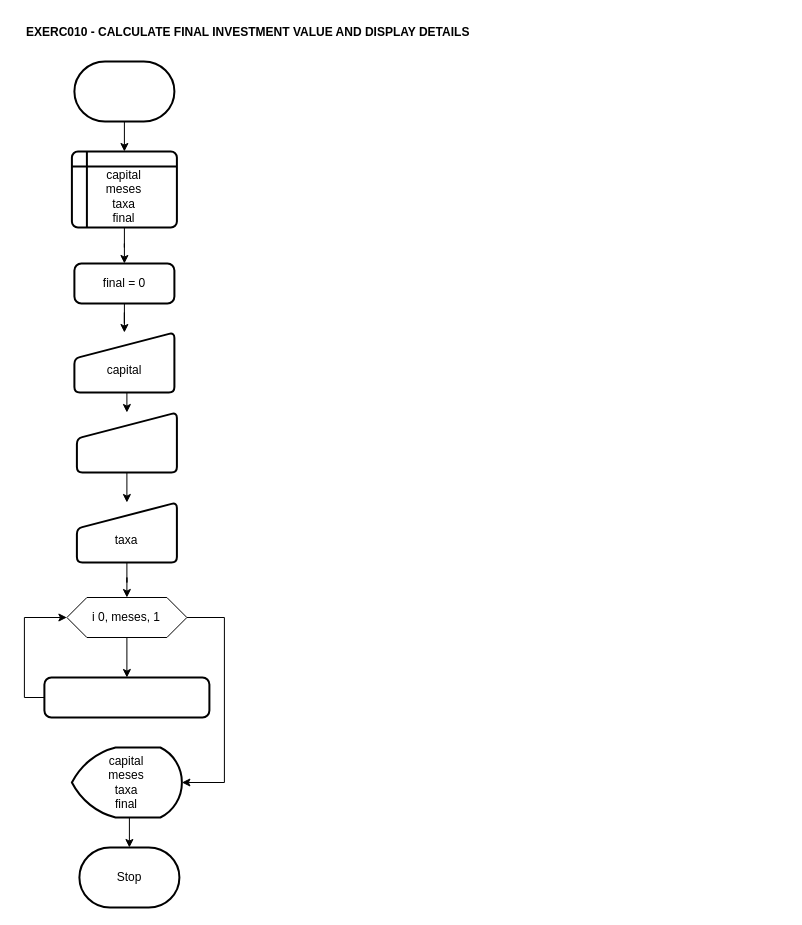
The diagram is 802 pixels wide and 925 high, and some of its shapes have lost their labels. The centre of each missing label's shape, as x and y in pixels:
"final = final (final * taxa / 100)" belongs at (126,697).
"meses" belongs at (126,442).
"Start" belongs at (124,91).
